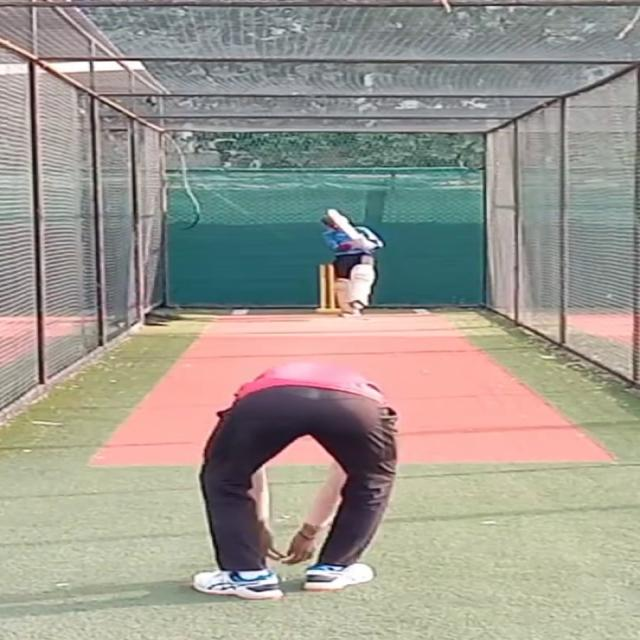stump: (314, 263, 338, 313)
